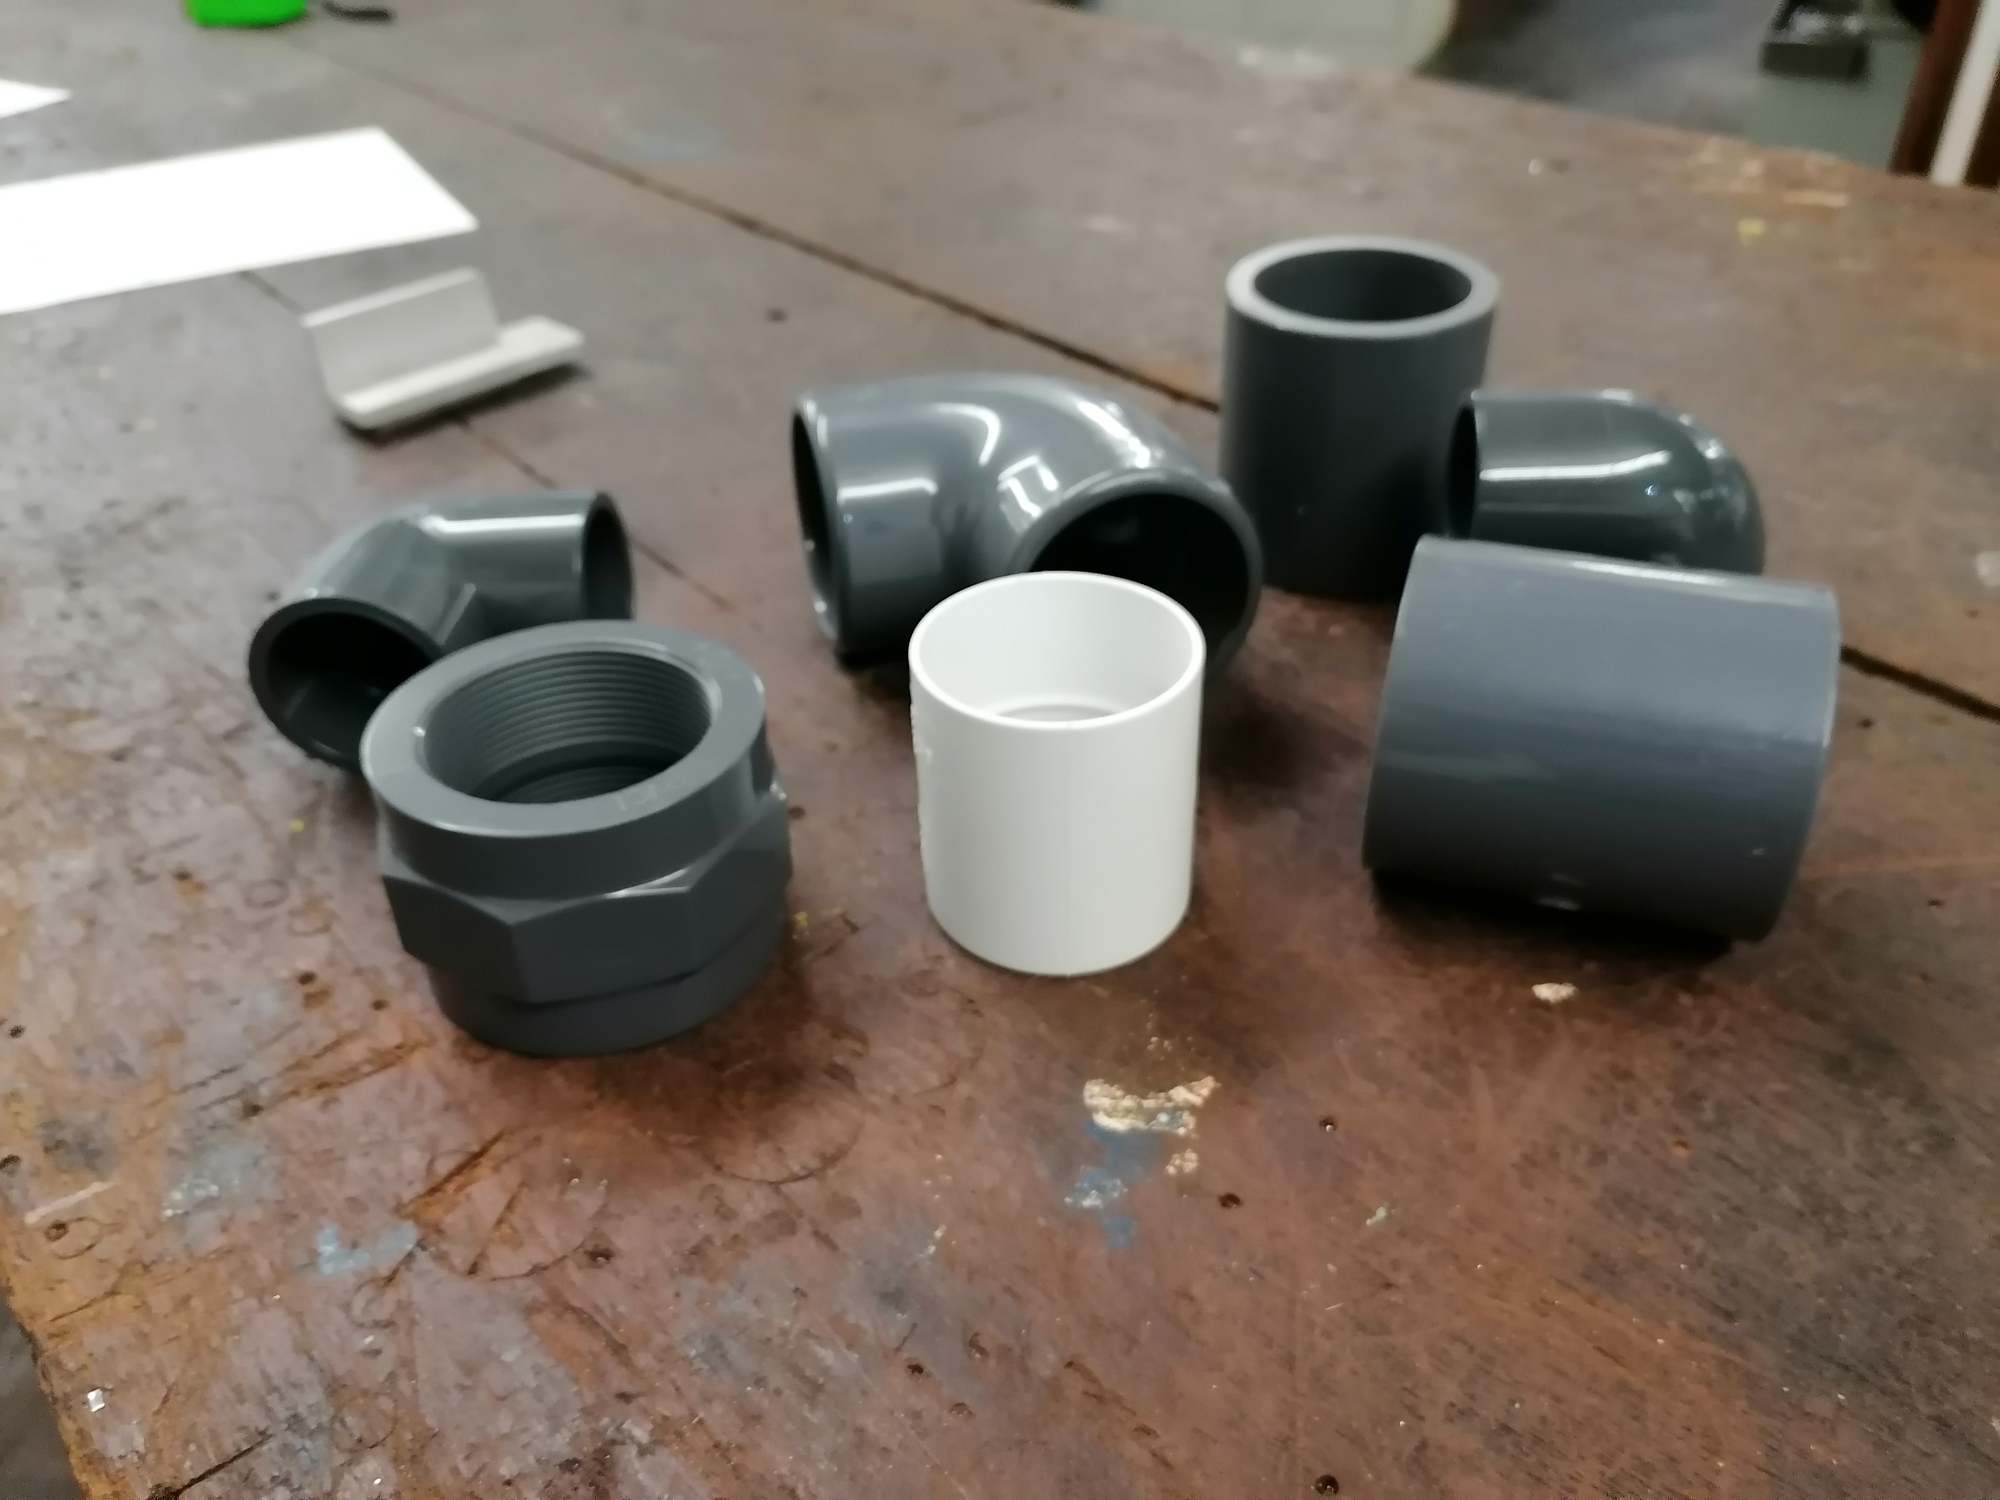nut: (354, 614, 802, 1064)
pipe: (1354, 523, 1847, 947), (784, 369, 1266, 682), (902, 562, 1206, 985), (246, 484, 638, 782), (1214, 224, 1501, 599), (1446, 384, 1772, 597)
